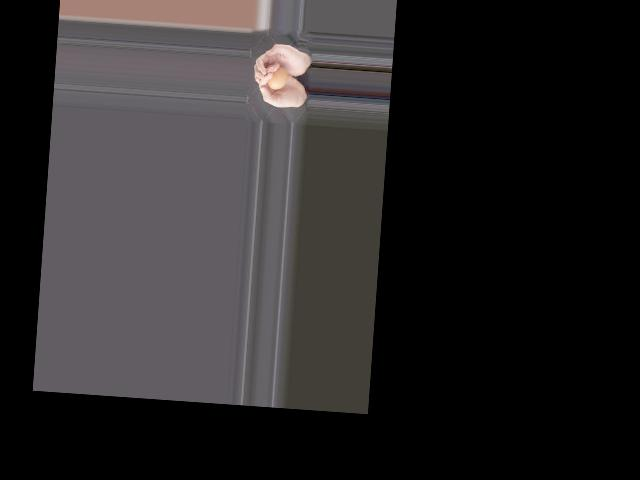egg: (267, 65, 289, 90)
